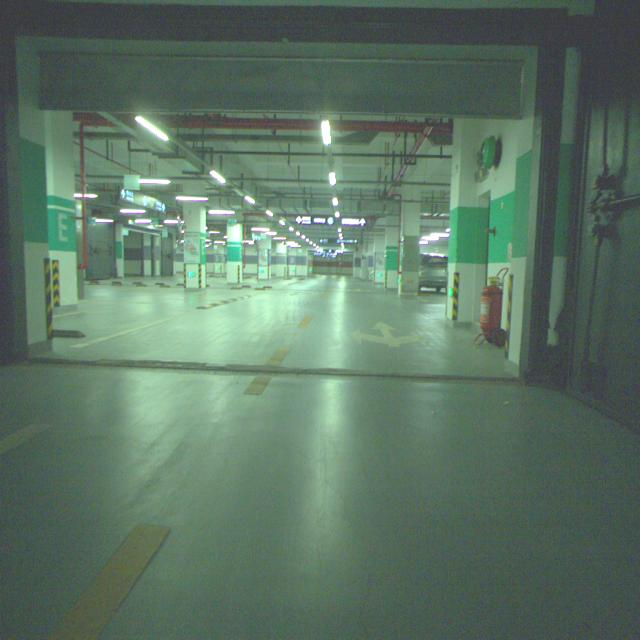pillar: (184, 202, 206, 289)
